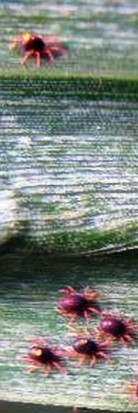Wheat Red Spider: (46, 275, 101, 328)
